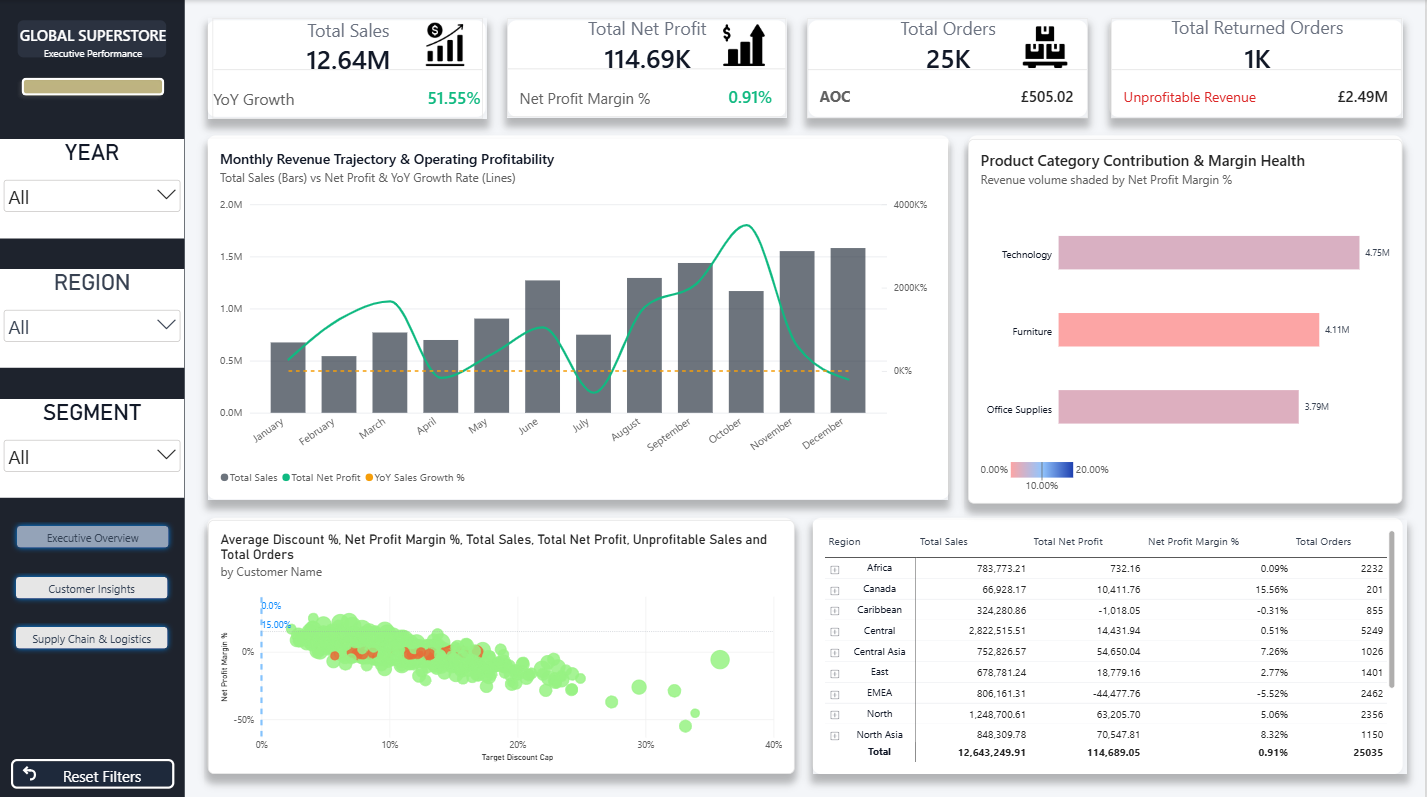

What the dashboard file says about the page in this screenshot:
{"tool":"powerbi","page":{"name":"Executive Overview","canvas":[1920,1080],"ordinal":0},"visuals":[{"type":"shape","title":"GLOBAL SUPERSTORE","box":[20.2,33.7,210,104],"z":0},{"type":"slicer","title":"YEAR","fields":{"Values":["Date Master.Year"]},"box":[0,187.4,247.7,133.7],"z":1000},{"type":"slicer","title":"REGION","fields":{"Values":["Dim Regions.Region"]},"box":[0,362.7,247.8,133],"z":2000},{"type":"slicer","title":"SEGMENT","fields":{"Values":["Dim Customers.Segment"]},"box":[0,537.3,247.7,133],"z":3000},{"type":"cardVisual","fields":{"Data":["Key Measures.Total Sales"]},"box":[280.1,24.2,375.7,136],"z":4000},{"type":"cardVisual","fields":{"Data":["Key Measures.Total Net Profit"]},"box":[682.9,24.4,376.5,133.7],"z":5000},{"type":"cardVisual","fields":{"Data":["Key Measures.Total Orders"]},"box":[1087.1,24.4,378.1,135.3],"z":6000},{"type":"cardVisual","fields":{"Data":["Key Measures.Total Returned Orders"]},"box":[1496.2,24.4,392.8,135.3],"z":7000},{"type":"lineStackedColumnComboChart","title":"Monthly Revenue Trajectory & Operating Profitability","fields":{"Category":["Date Master.Month Name"],"Y":["Key Measures.Total Sales"],"Y2":["Key Measures.Total Net Profit","Key Measures.YoY Sales Growth %"]},"box":[280.3,187.4,995.9,485.7],"z":8000},{"type":"clusteredBarChart","title":"Product Category Contribution & Margin Health","fields":{"Category":["Dim Products.Category","Dim Products.Sub-Category"],"Y":["Key Measures.Total Sales"]},"box":[1303.9,187.4,585.1,490.6],"z":9000},{"type":"image","box":[541.1,29.3,115,60],"z":10000},{"type":"image","box":[1349.5,34.2,115,60],"z":11000},{"type":"image","box":[943.7,31,115,60],"z":12000},{"type":"scatterChart","fields":{"Category":["Dim Customers.Customer Name","Dim Products.Sub-Category"],"Size":["Key Measures.Total Sales"],"X":["Key Measures.Average Discount %"],"Y":["Key Measures.Net Profit Margin %"]},"box":[280.3,700.8,790.5,342.3],"z":13000},{"type":"pivotTable","title":"Logistics Velocity & Return Leakage","fields":{"Rows":["Dim Regions.Region","Dim Regions.Regional Manager"],"Values":["Key Measures.Total Sales","Key Measures.Total Net Profit","Key Measures.Net Profit Margin %","Key Measures.Total Orders"]},"box":[1095.3,700.8,800.3,342.3],"z":14000},{"type":"actionButton","box":[13.5,768.3,220,45],"z":15000},{"type":"actionButton","box":[14.8,1022.1,219.5,40.4],"z":16000},{"type":"actionButton","box":[14.8,700.2,220,45],"z":17000},{"type":"actionButton","box":[13.5,836.3,220,45],"z":18000}]}

Visuals, with their boxes in screenshot pixels (x1, y1, x2, y2), scaled from the page's 1920x1080 canvas onto the 1427x797 screenshot:
"GLOBAL SUPERSTORE" shape: (15, 25, 171, 102)
"YEAR" slicer: (0, 138, 184, 237)
"REGION" slicer: (0, 268, 184, 366)
"SEGMENT" slicer: (0, 397, 184, 495)
cardVisual - Key Measures.Total Sales: (208, 18, 487, 118)
cardVisual - Key Measures.Total Net Profit: (508, 18, 787, 117)
cardVisual - Key Measures.Total Orders: (808, 18, 1089, 118)
cardVisual - Key Measures.Total Returned Orders: (1112, 18, 1404, 118)
"Monthly Revenue Trajectory & Operating Profitability" lineStackedColumnComboChart: (208, 138, 949, 497)
"Product Category Contribution & Margin Health" clusteredBarChart: (969, 138, 1404, 500)
image: (402, 22, 488, 66)
image: (1003, 25, 1088, 70)
image: (701, 23, 787, 67)
scatterChart - Dim Customers.Customer Name x Dim Products.Sub-Category: (208, 517, 796, 770)
"Logistics Velocity & Return Leakage" pivotTable: (814, 517, 1409, 770)
actionButton: (10, 567, 174, 600)
actionButton: (11, 754, 174, 784)
actionButton: (11, 517, 175, 550)
actionButton: (10, 617, 174, 650)
